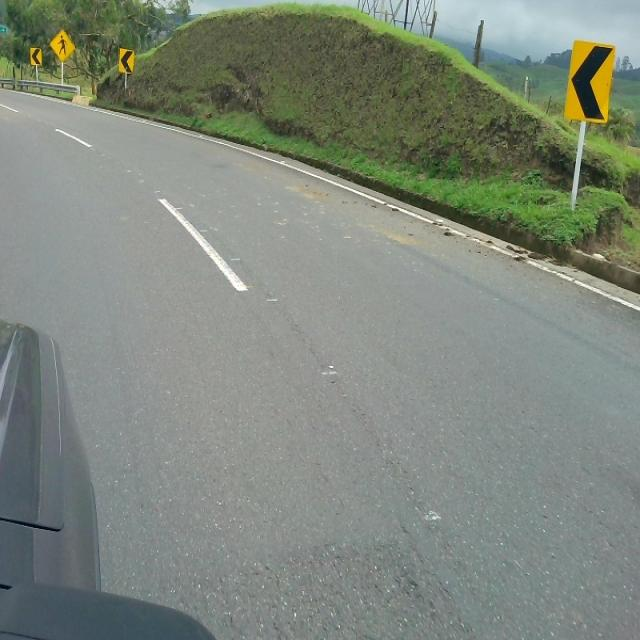DITCH: (2, 1, 638, 638), (2, 29, 638, 639), (91, 3, 638, 290)
